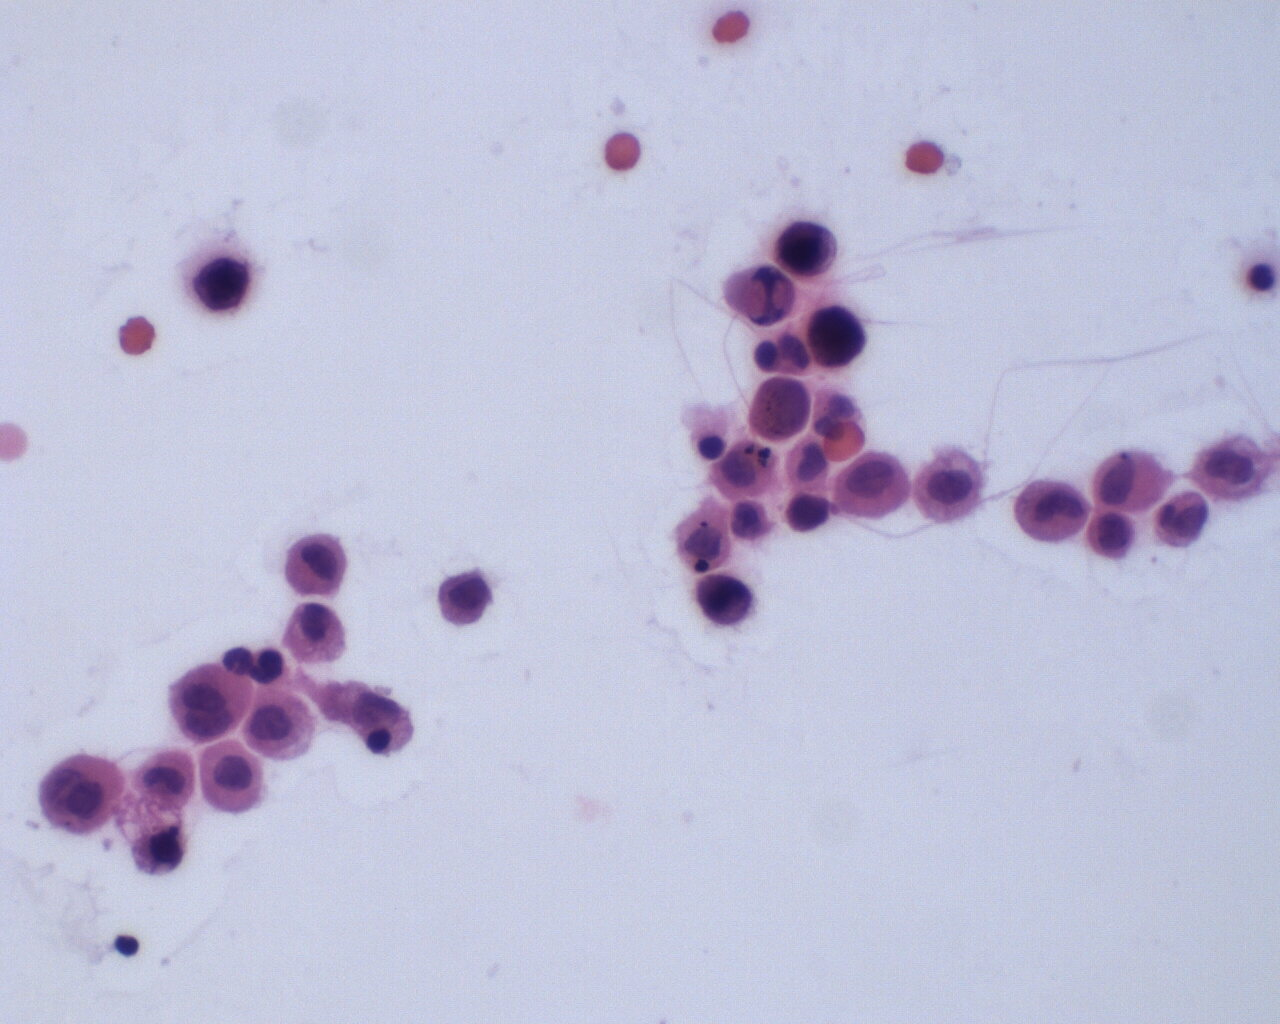ab: (744, 374, 811, 443), (808, 303, 871, 373), (188, 254, 253, 315), (432, 568, 494, 630), (775, 219, 840, 276), (695, 573, 757, 628), (1155, 489, 1210, 550), (1085, 510, 1138, 563), (781, 490, 834, 535)
lymph: (695, 430, 728, 465), (110, 930, 142, 963)
meso: (832, 451, 913, 526), (908, 448, 987, 523), (248, 689, 318, 767), (200, 746, 270, 821), (281, 532, 351, 599)
